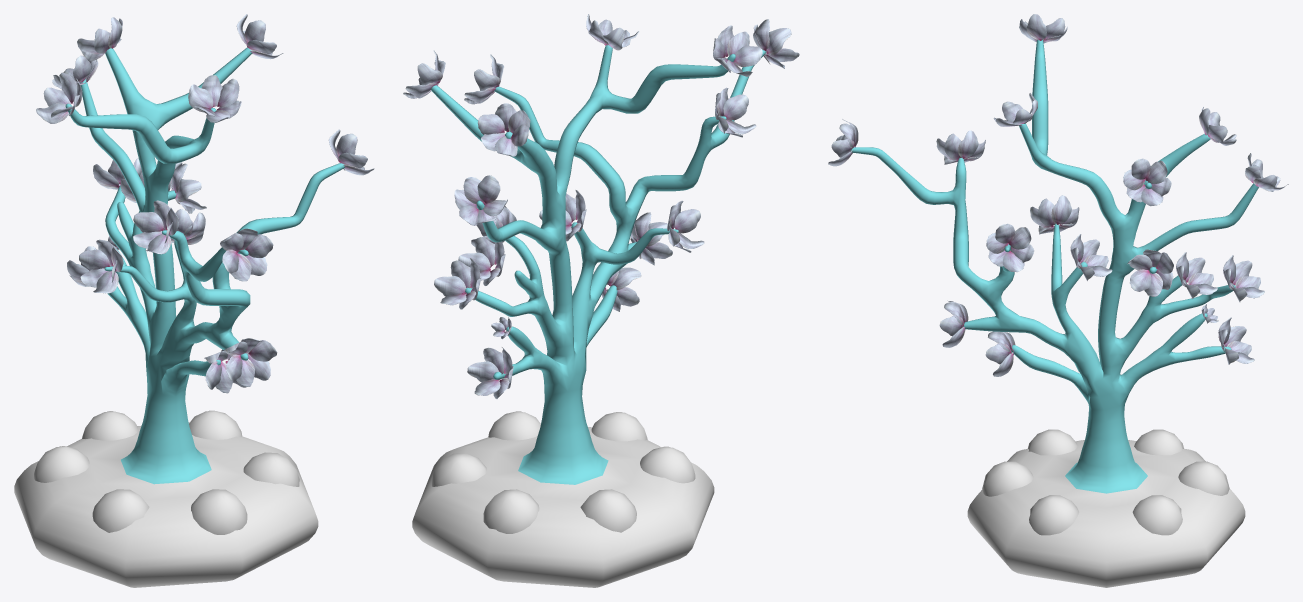
The model's file is lamp tree.fbx.
3 views of the same model, side by side, from view 1: azimuth 30°, elevation 25°; view 2: azimuth 150°, elevation 25°; view 3: azimuth 270°, elevation 25° (orthographic). The views are drawn at different scales.
Parts seen in each view (by area): view 1: SciFiLamp; view 2: SciFiLamp; view 3: SciFiLamp.
Part boxes in pixels (x1,y1,x2,y2): SciFiLamp: (14, 14, 374, 587); SciFiLamp: (403, 14, 799, 587); SciFiLamp: (828, 14, 1288, 587).
Bounding box in the file's own units: 217 × 355 × 309.
